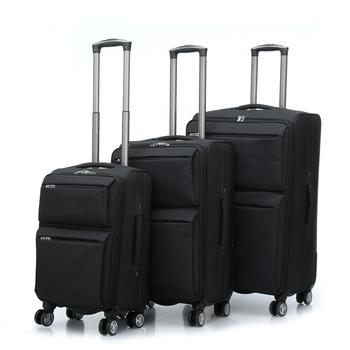luggage: (33, 39, 152, 336)
